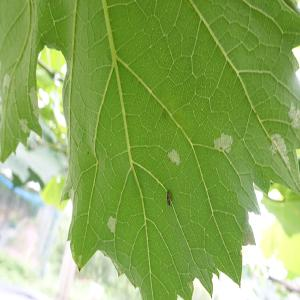Folha: (1, 0, 299, 299)
Fungo: (274, 132, 294, 174), (214, 131, 237, 158), (29, 83, 44, 120), (15, 112, 30, 141), (166, 144, 184, 168), (289, 101, 300, 133), (105, 212, 120, 234), (0, 64, 11, 90), (166, 189, 170, 205)
